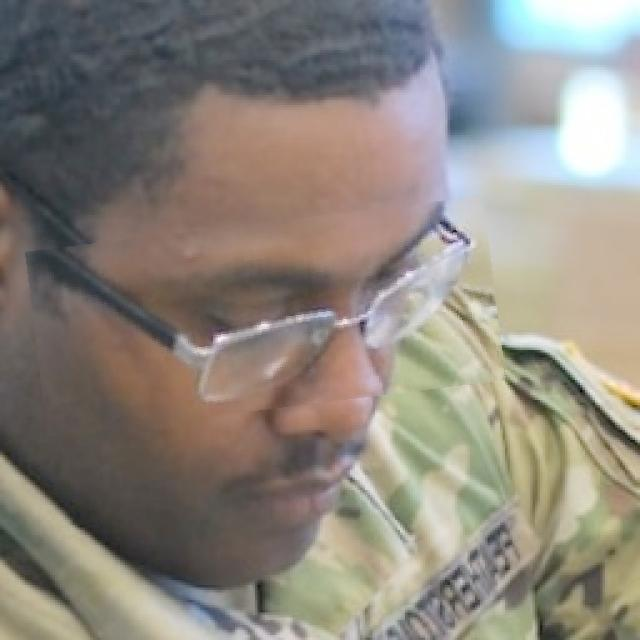glasses: (29, 210, 501, 423)
